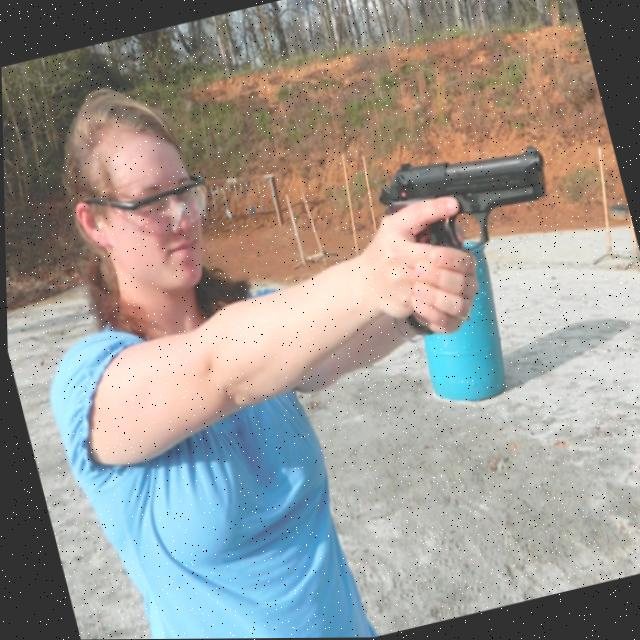pistol: (365, 128, 563, 276)
